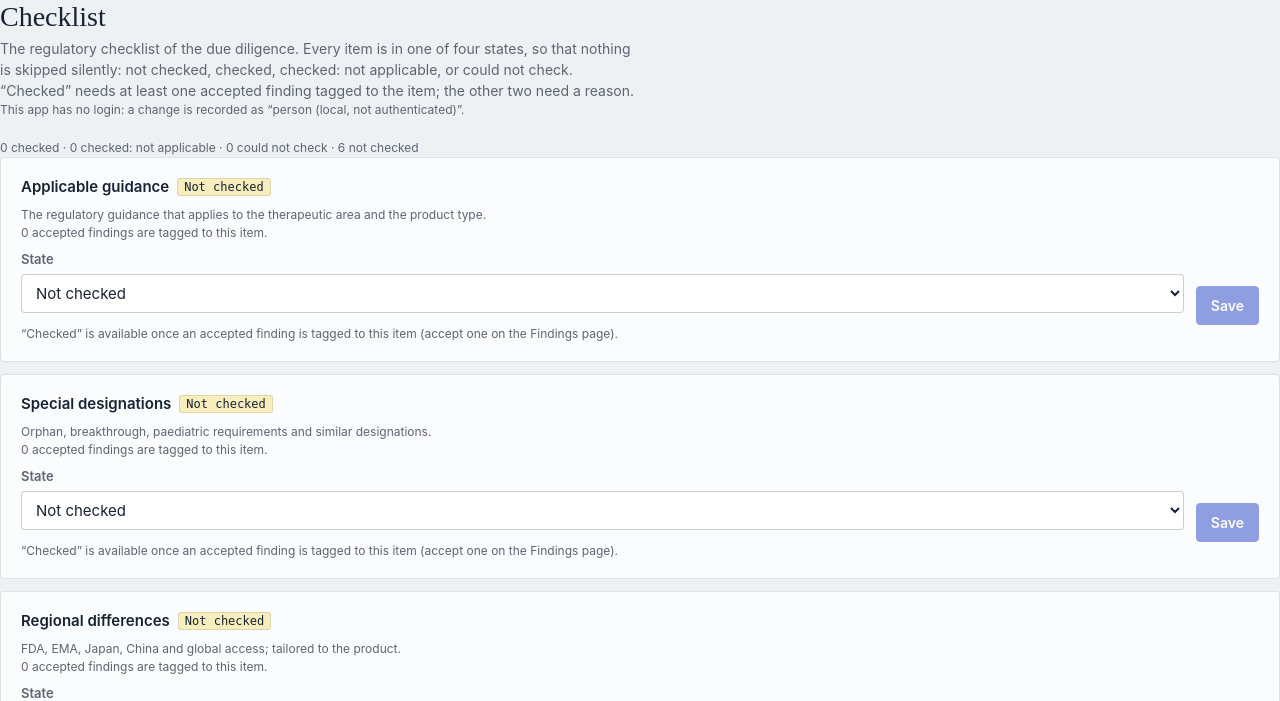
Test case: ChecklistPanel › asks for a reason for "not applicable" and "could not check", and does not send without one
Select "Checked: not applicable" in the dropdown named "State of Special designations" at (602, 510), box [21,491,1184,530]
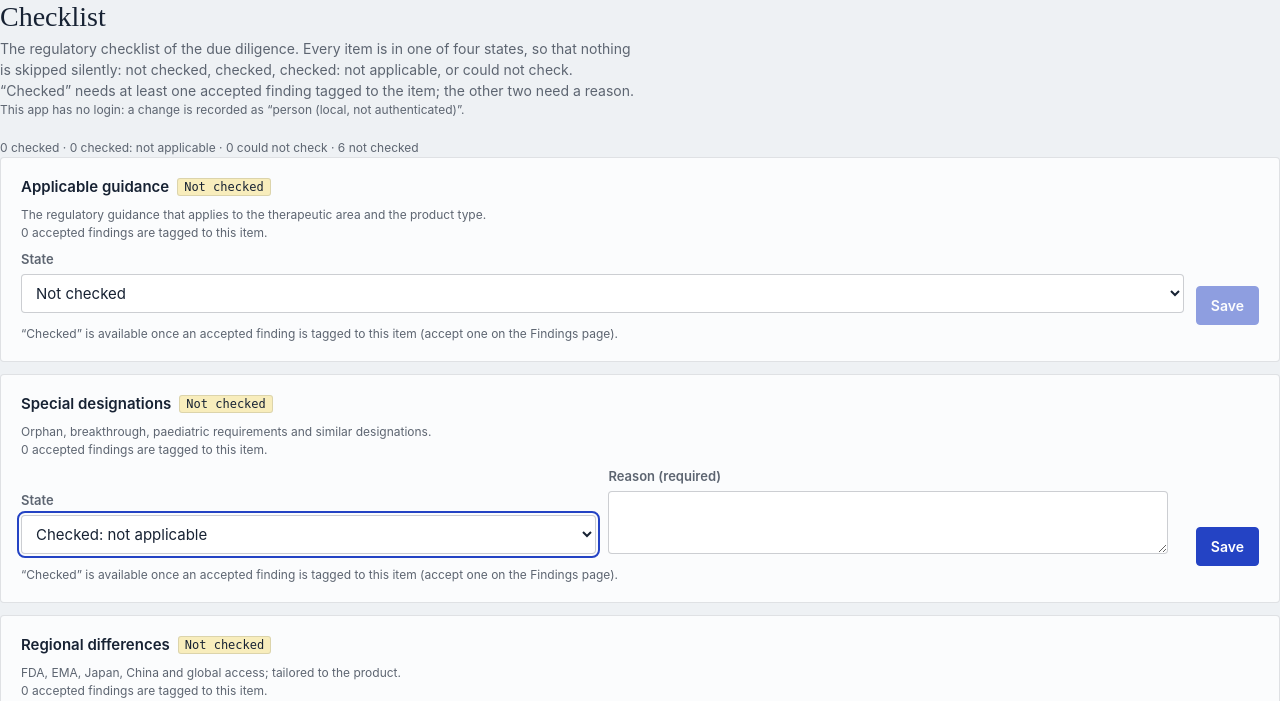
Expected: the text box named "Reason for Special designations" is shown, [608,491,1168,554]
Click the button with aria-label "Save Special designations".
click(1227, 546)  # box [1196,527,1259,566]
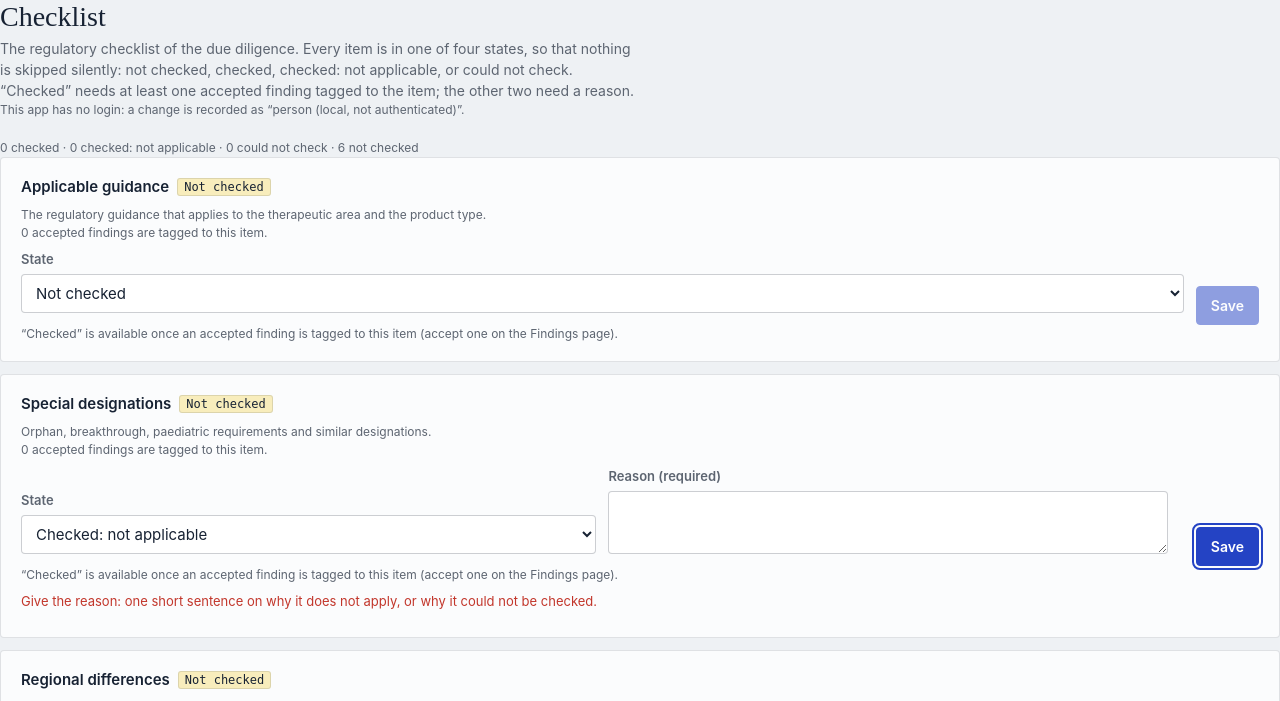
Expected: the message shows "Give the reason", [21,593,597,609]
